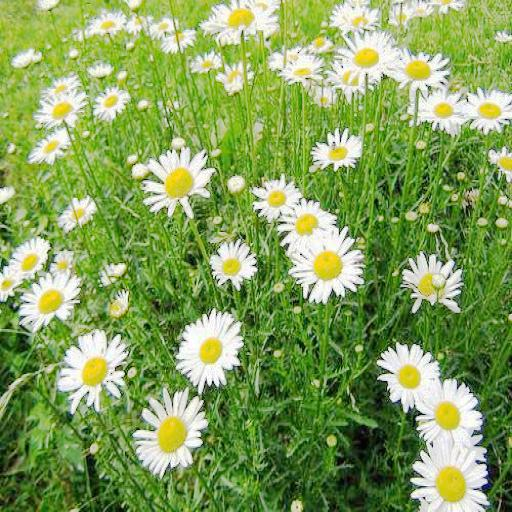daisy: (411, 435, 484, 512), (137, 392, 203, 471), (286, 240, 366, 302), (146, 149, 213, 213), (181, 315, 240, 384), (67, 336, 127, 403), (402, 251, 461, 314), (420, 378, 481, 436), (381, 346, 435, 408), (274, 202, 341, 244), (22, 280, 81, 322), (337, 34, 396, 75), (211, 238, 256, 290), (465, 86, 511, 134), (312, 127, 360, 171), (421, 86, 467, 130), (396, 52, 446, 89), (256, 174, 298, 216), (37, 88, 81, 126), (26, 135, 78, 164), (58, 198, 98, 228), (286, 54, 320, 84), (96, 90, 130, 119), (215, 63, 248, 91), (337, 6, 377, 28), (162, 30, 196, 52), (491, 147, 512, 181), (93, 12, 119, 37), (48, 74, 77, 96), (191, 52, 219, 72), (307, 31, 329, 52), (126, 16, 149, 33)
